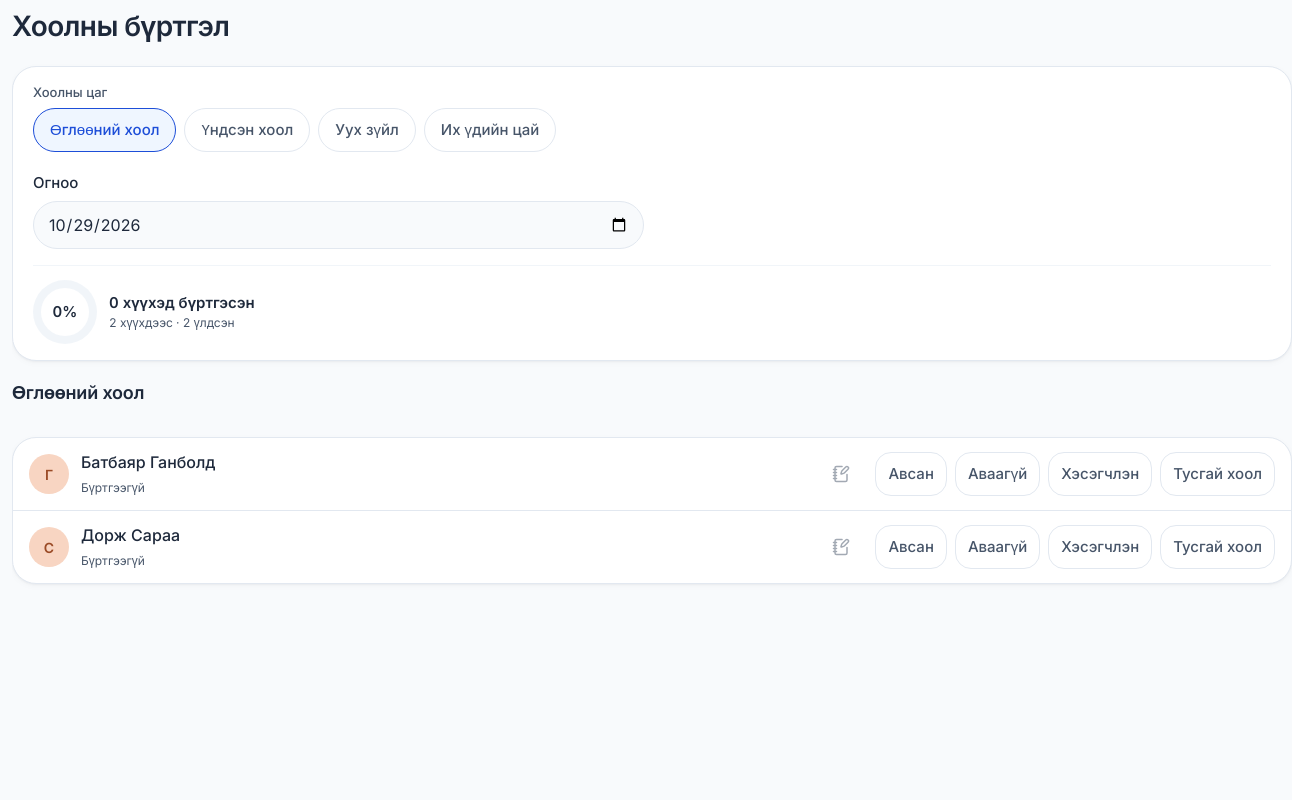
Test: хадгалаагүй өөрчлөлт › marking a child stages the change without sending anything
This screenshot has width=1292, height=800.
Expected: the text "Батбаяр Ганболд" is shown, [81,452,215,472]
What coordinates should you click on to do the following:
click the radio button labelled "Авсан" in the row of "Батбаяр Ганболд"
I would click on:
 (911, 474)
Its box is [875,452,947,496].
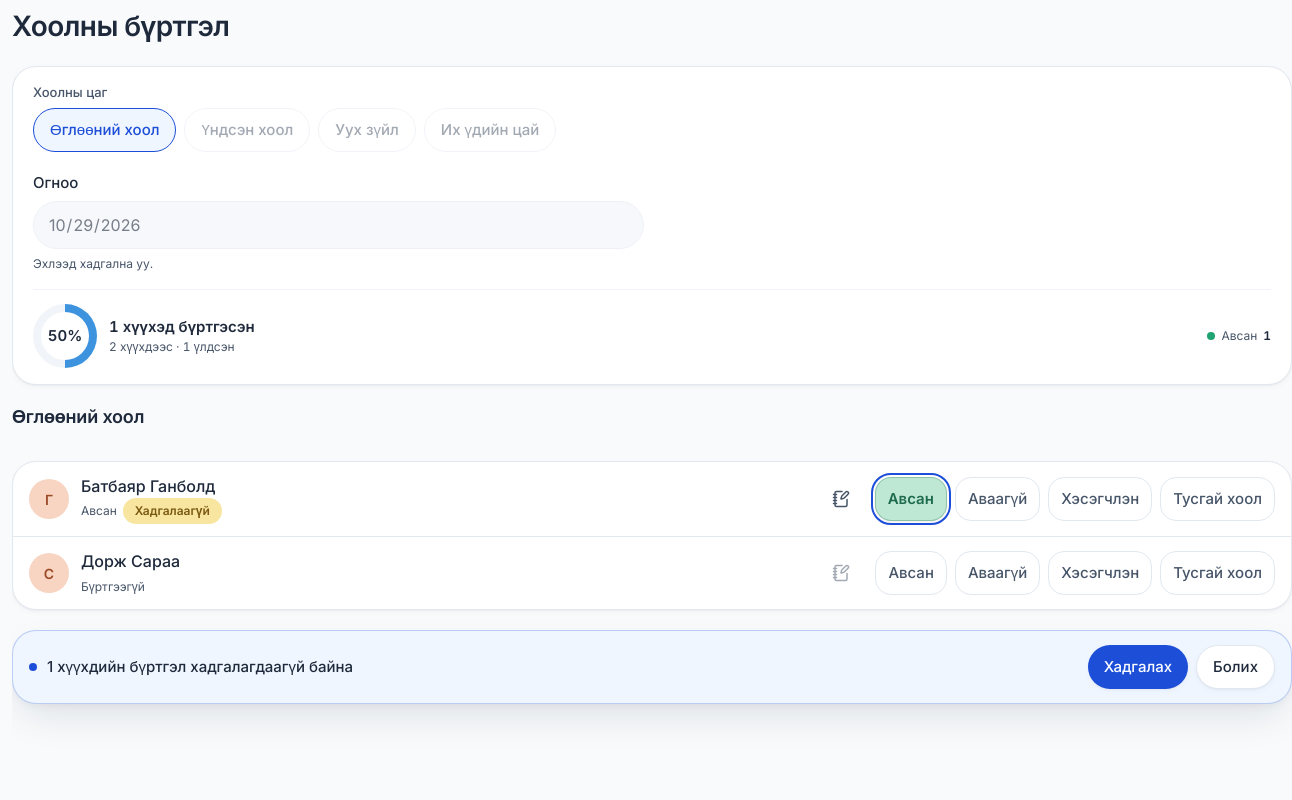
Expected: the radio button labelled "Авсан" in the row of "Батбаяр Ганболд" is checked, [875,477,947,521]
Expected: the text "Хадгалаагүй" is shown, [123,498,222,524]
Expected: the text "1 хүүхдийн бүртгэл хадгалагдаагүй байна" is shown, [29,656,353,678]
